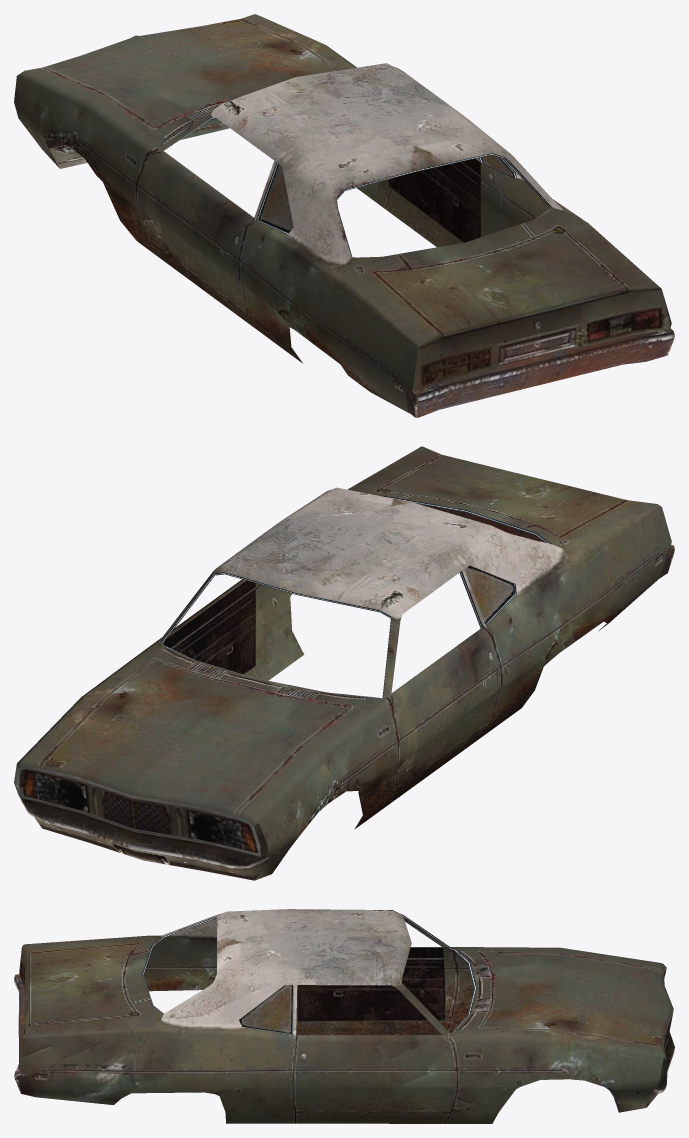
The model's file is p54_37_wreck_car_shell.glb.
The picture shows the model from 3 angles, top to bottom: view 1: azimuth 30°, elevation 25°; view 2: azimuth 150°, elevation 25°; view 3: azimuth 270°, elevation 25°; orthographic projection. The views are drawn at different scales.
Visible parts, largest first — view 1: Body; view 2: Body; view 3: Body.
Part boxes in pixels (left/top/right/bottom): Body: left=14, top=14, right=674, bottom=417; Body: left=14, top=446, right=674, bottom=880; Body: left=14, top=909, right=674, bottom=1123.
Bounding box in the file's own units: 2 × 1.31 × 5.35.
1 material, 1 textured.
